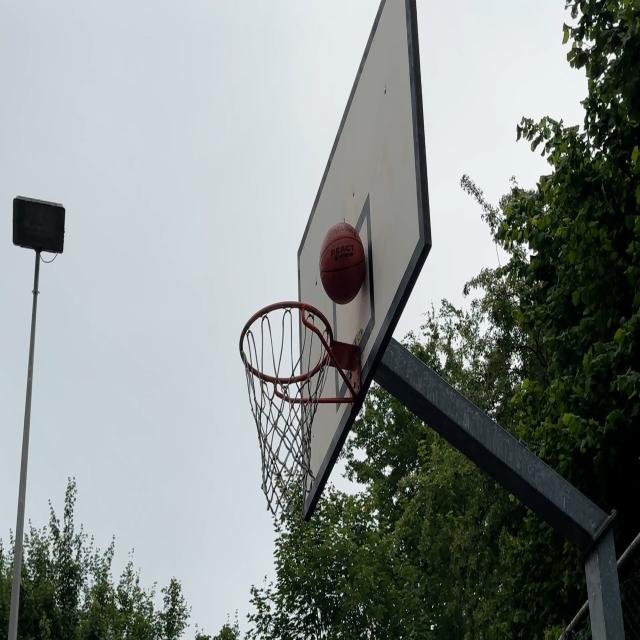rebound_hit: (320, 221, 370, 305)
